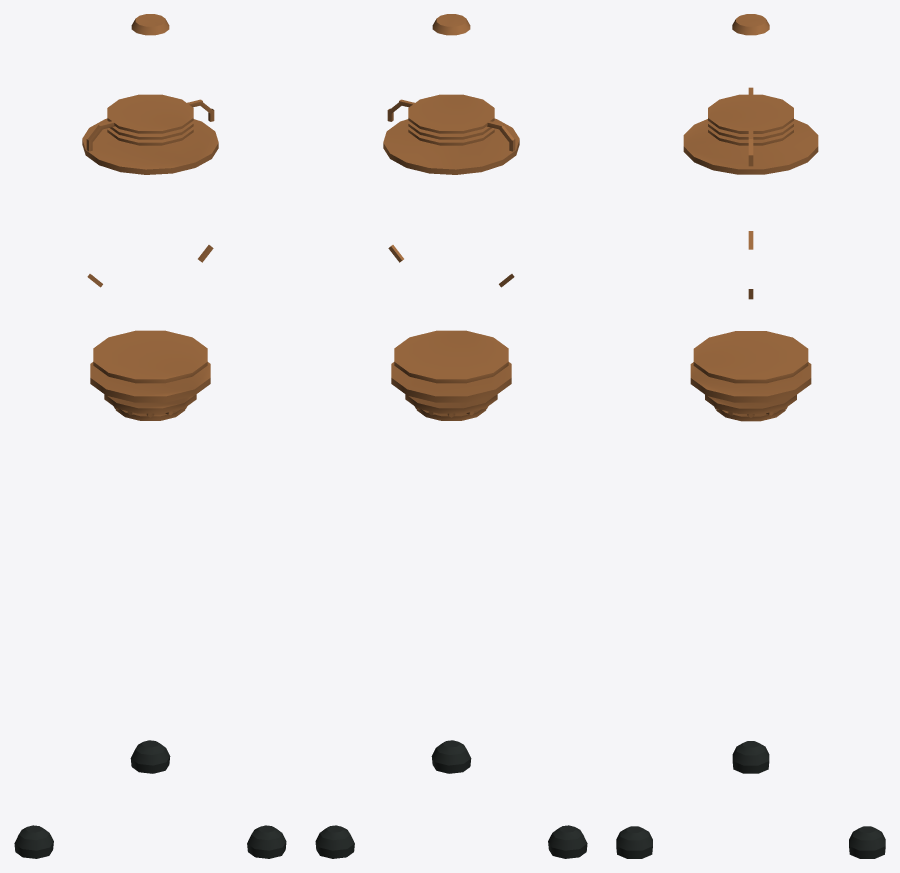
The model's file is lantern_beacon_detail1.glb.
The picture shows the model from 3 angles, left to right: view 1: azimuth 30°, elevation 25°; view 2: azimuth 150°, elevation 25°; view 3: azimuth 270°, elevation 25°; orthographic projection.
Parts seen in each view (by area): view 1: Detail1; view 2: Detail1; view 3: Detail1.
Part boxes in pixels (x1,y1,x2,y2): Detail1: [14, 14, 286, 858]; Detail1: [315, 14, 587, 858]; Detail1: [616, 14, 885, 858].
Size of the model in its own units: 5.5 by 20.44 by 6.22.
